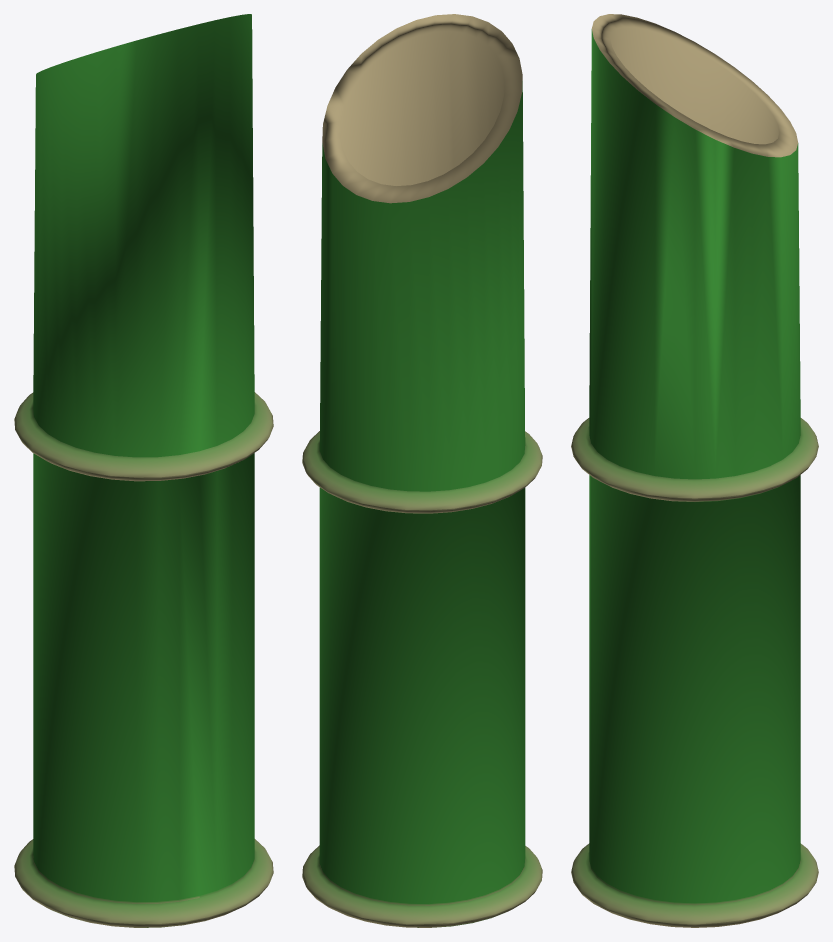
File: Goal.gltf
3 views of the same model, side by side, from view 1: azimuth 30°, elevation 25°; view 2: azimuth 150°, elevation 25°; view 3: azimuth 270°, elevation 25° (orthographic). The views are drawn at different scales.
Parts seen in each view (by area): view 1: SpearModel; view 2: SpearModel; view 3: SpearModel.
Part boxes in pixels (x1=…): SpearModel: x1=14, y1=14, x2=273, y2=927; SpearModel: x1=302, y1=14, x2=542, y2=927; SpearModel: x1=571, y1=14, x2=818, y2=927.
Size of the model in its own units: 1.13 by 4.31 by 1.13.
Materials: 1 (1 with a texture image).
